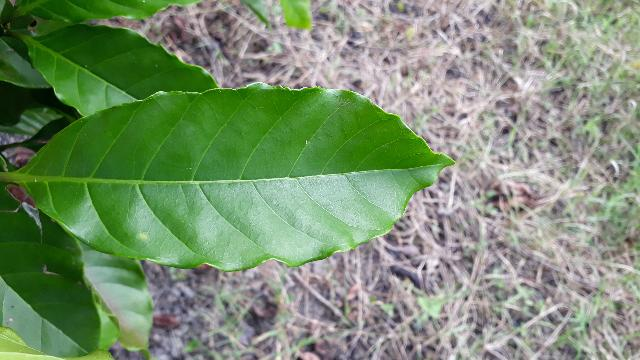healthy: (13, 79, 467, 275)
